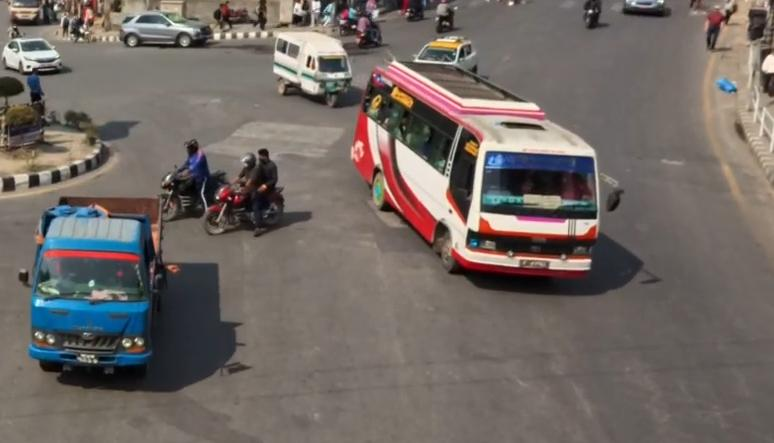bus: (343, 47, 625, 292)
